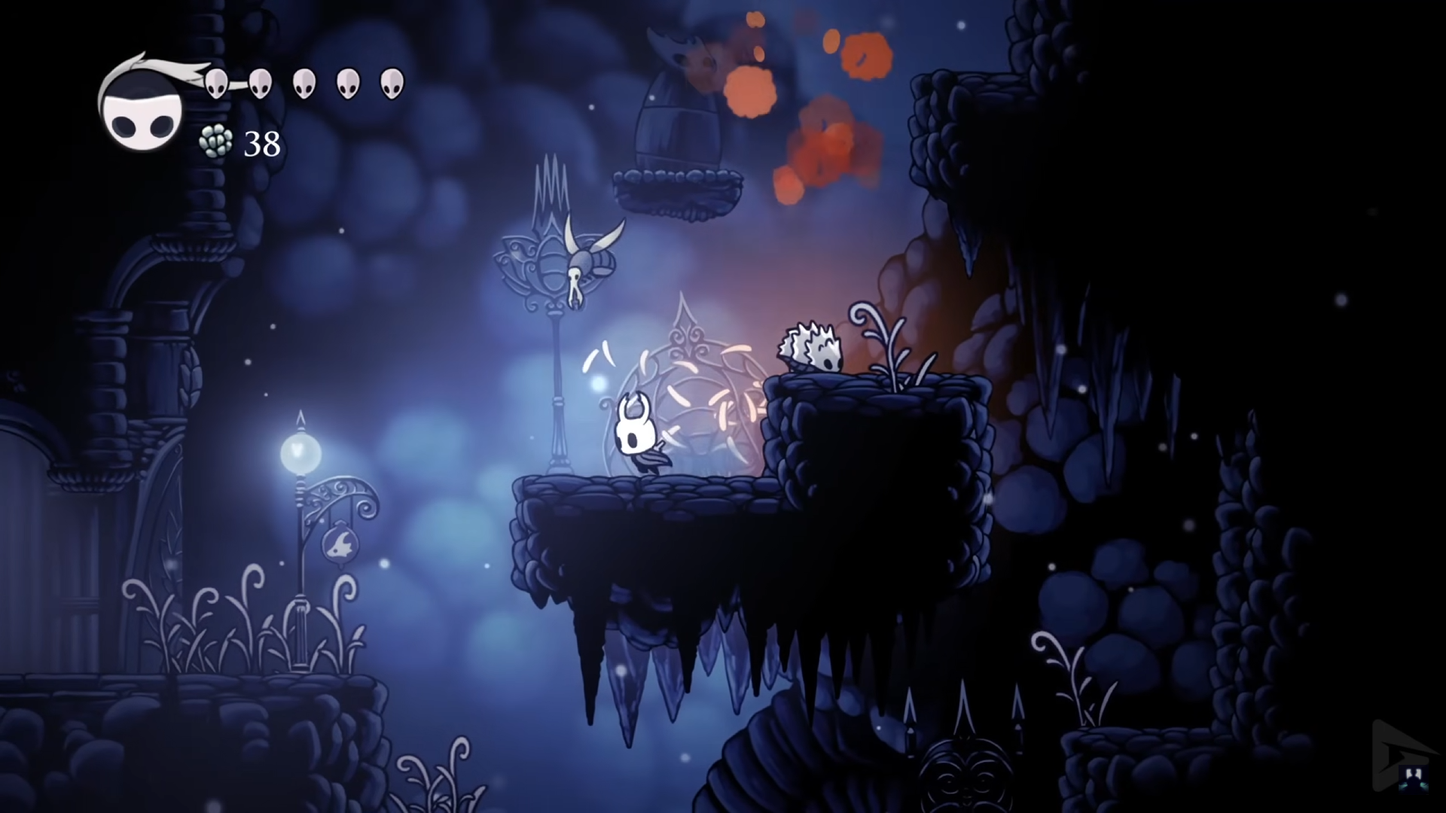HK: (610, 388, 670, 480)
